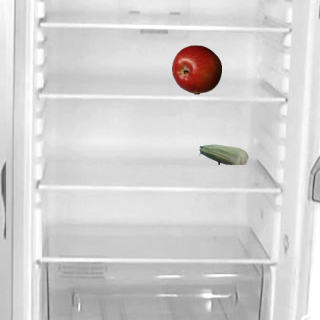Apple Braeburn: (171, 44, 221, 94)
Corn Husk: (198, 129, 248, 179)
